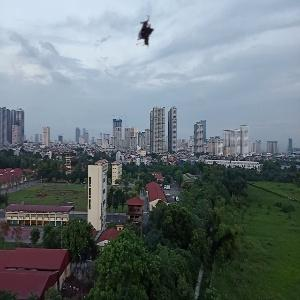drone: (128, 15, 166, 53)
